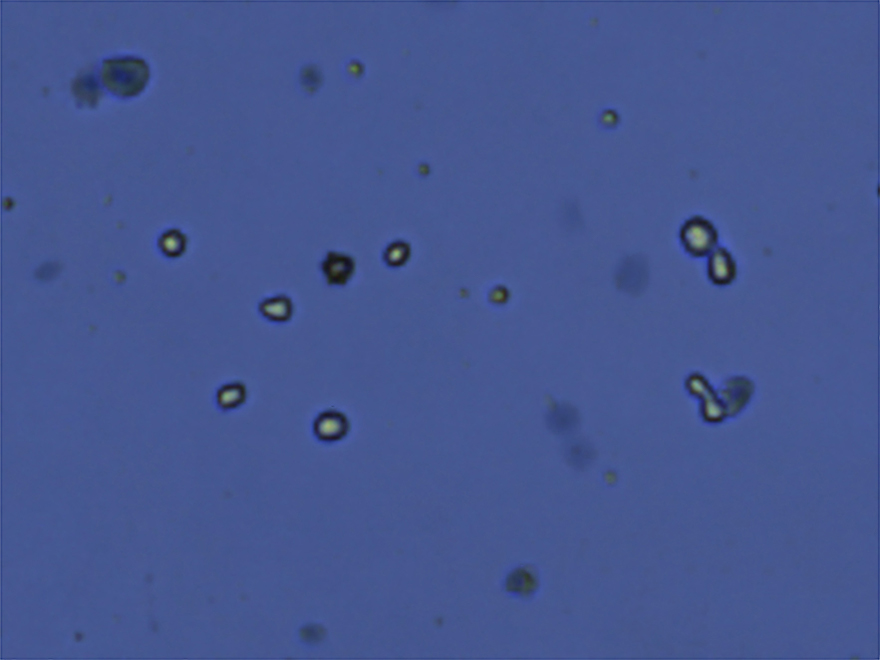A: (675, 209, 722, 260), (699, 244, 741, 289), (309, 406, 354, 446), (213, 376, 248, 415), (378, 234, 413, 271), (258, 290, 296, 324), (155, 225, 191, 260), (484, 278, 514, 311), (595, 103, 621, 129), (342, 54, 367, 81), (415, 159, 434, 178)
D: (713, 370, 760, 423), (100, 54, 150, 103), (320, 249, 357, 288), (502, 563, 539, 601), (296, 61, 330, 99)
